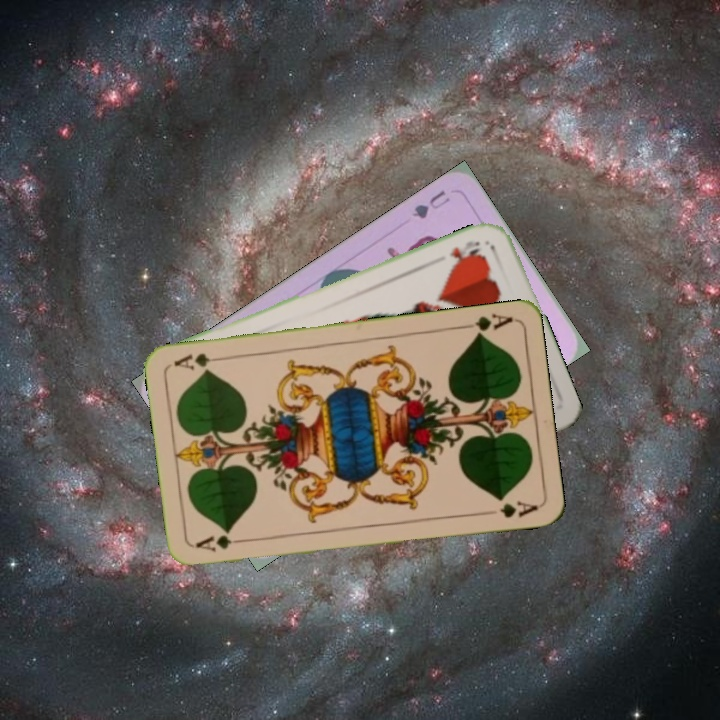GA: (456, 310, 515, 340), (191, 531, 250, 555)
GU: (408, 186, 453, 222)
HO: (446, 236, 484, 269)
